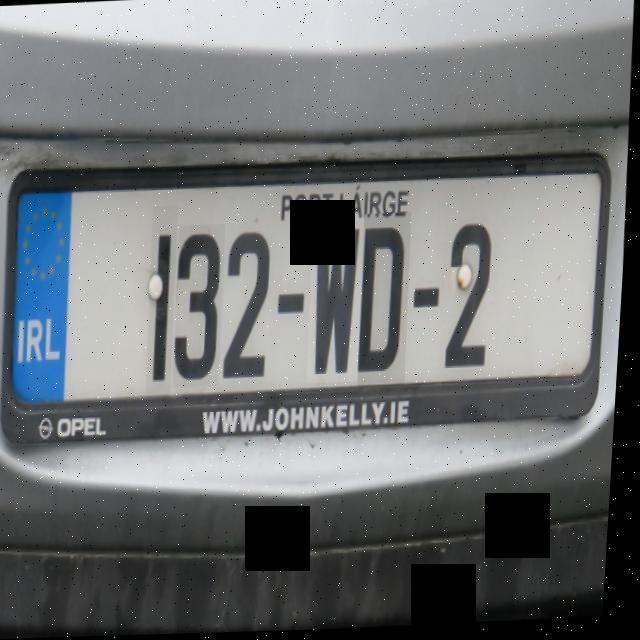3: (174, 225, 231, 389)
D: (359, 214, 419, 389)
I: (146, 206, 183, 399)
W: (308, 212, 370, 385)
